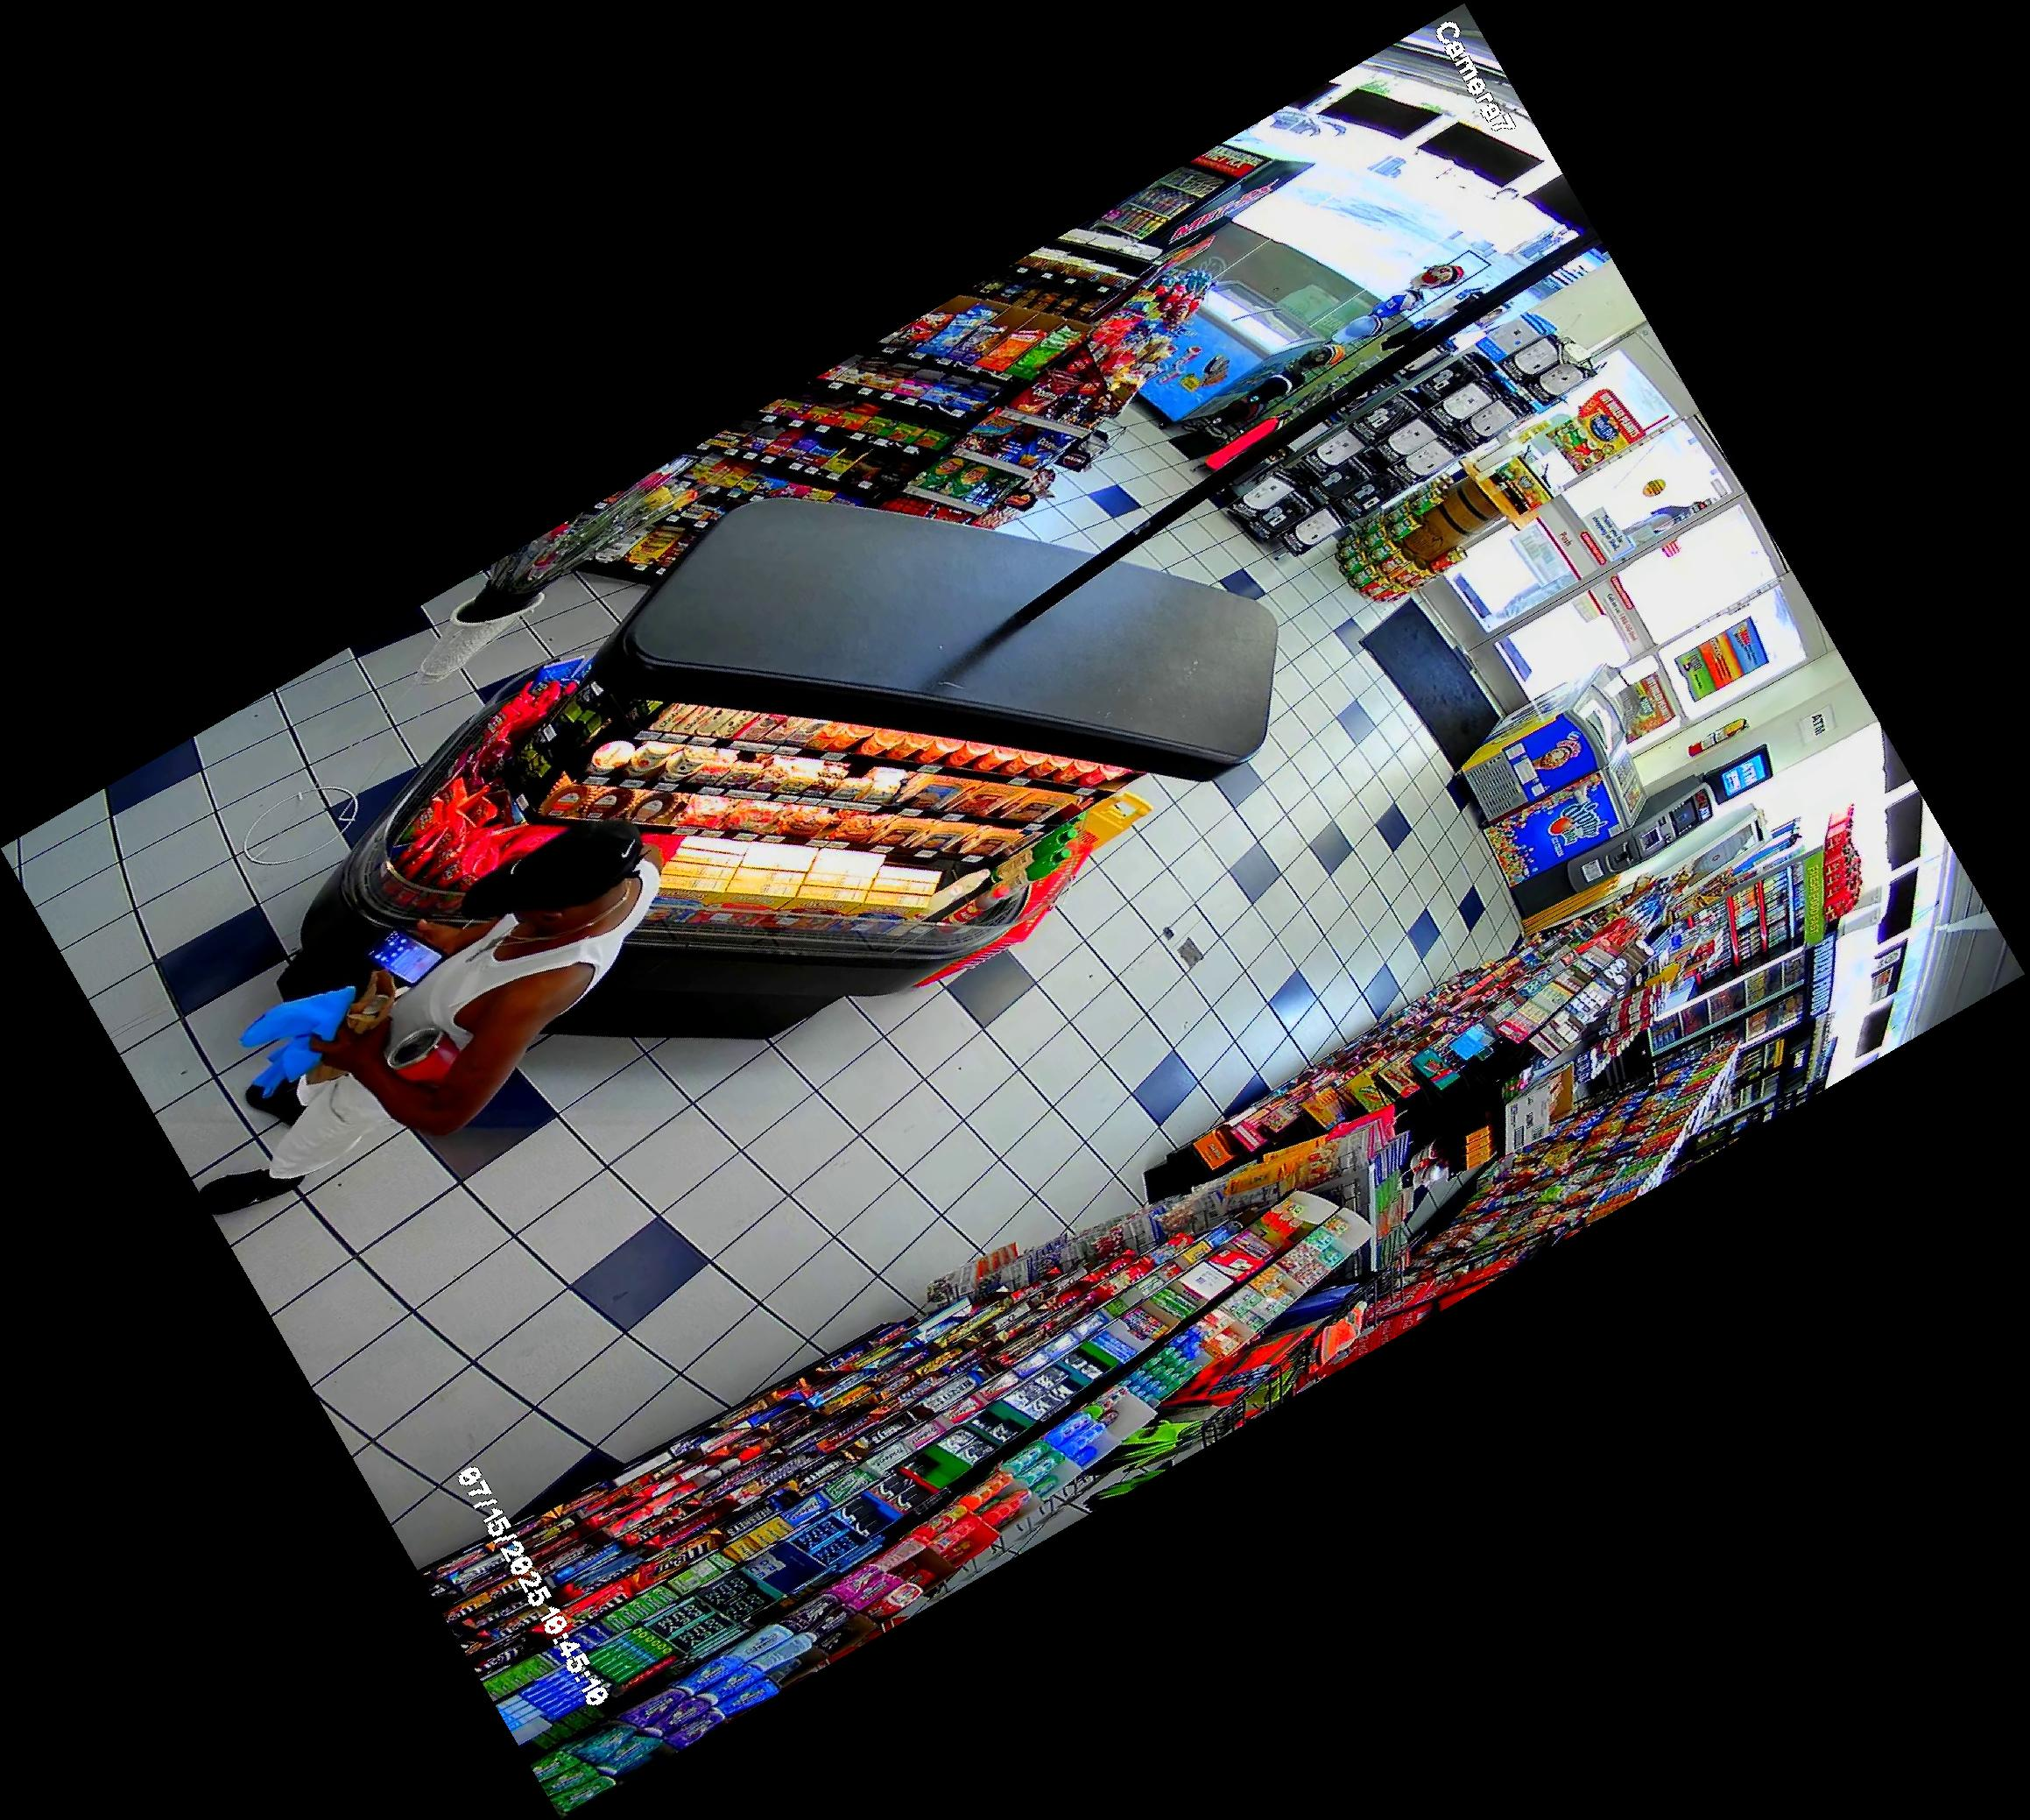phone: (355, 921, 451, 998)
